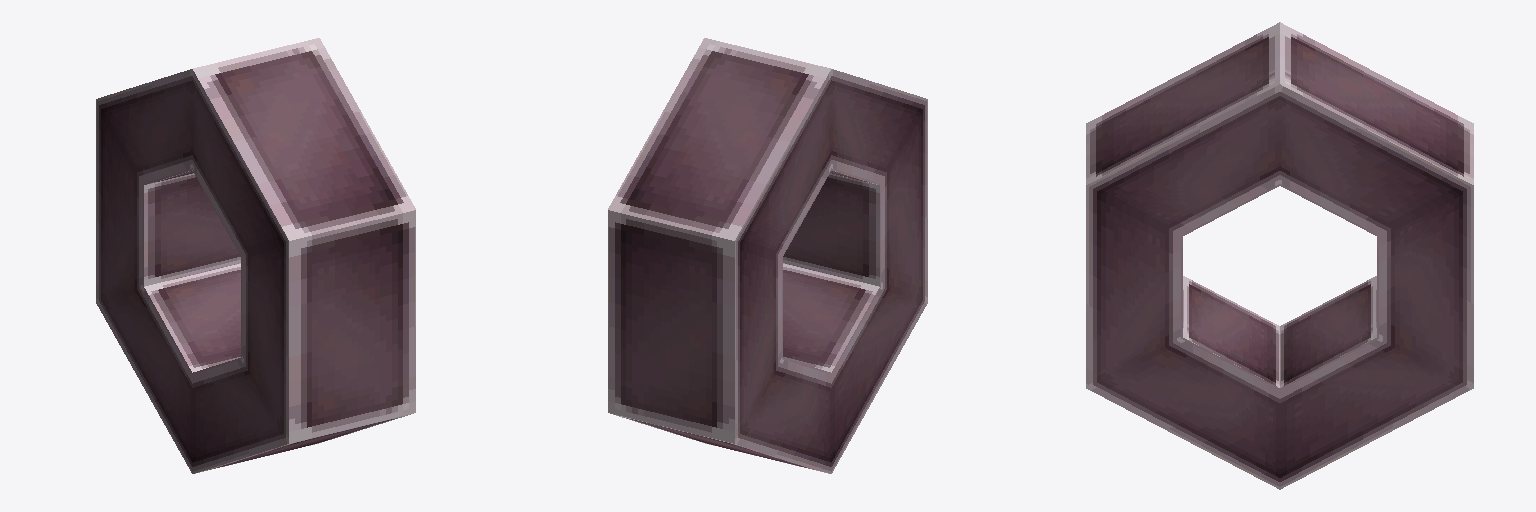
3 views of the same model, side by side, from view 1: azimuth 30°, elevation 25°; view 2: azimuth 150°, elevation 25°; view 3: azimuth 270°, elevation 25° (orthographic).
Visible parts, largest first — view 1: Object01; view 2: Object01; view 3: Object01.
Boxes of the visible parts, x1,y1,x2,y2 form: Object01: [96, 38, 415, 473]; Object01: [608, 38, 927, 473]; Object01: [1086, 22, 1473, 489].
Bounding box in the file's own units: 5.51 × 16.8 × 14.55.
1 materials, 1 textured.